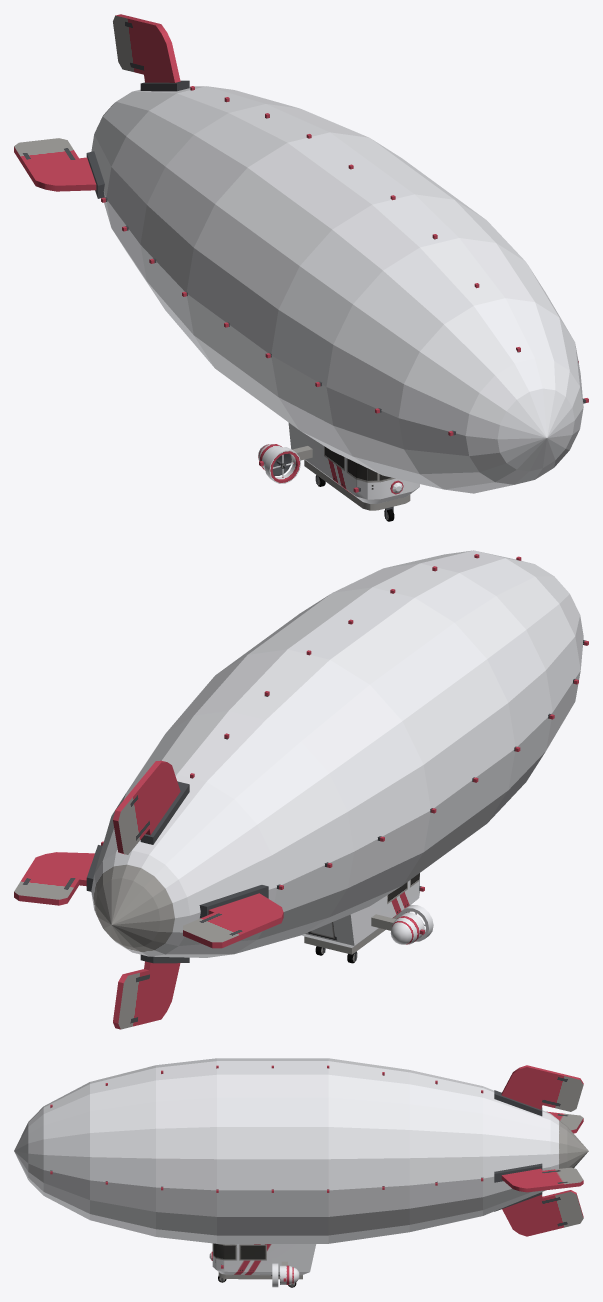
File: airship.obj
The picture shows the model from 3 angles, top to bottom: view 1: azimuth 30°, elevation 25°; view 2: azimuth 150°, elevation 25°; view 3: azimuth 270°, elevation 25°; orthographic projection. The views are drawn at different scales.
Visible parts, largest first — view 1: Blimp; view 2: Blimp; view 3: Blimp.
Boxes of the visible parts, x1,y1,x2,y2 form: Blimp: (14, 14, 588, 521); Blimp: (14, 550, 588, 1029); Blimp: (14, 1058, 588, 1287).
Bounding box in the file's own units: 400 × 495 × 1195.
